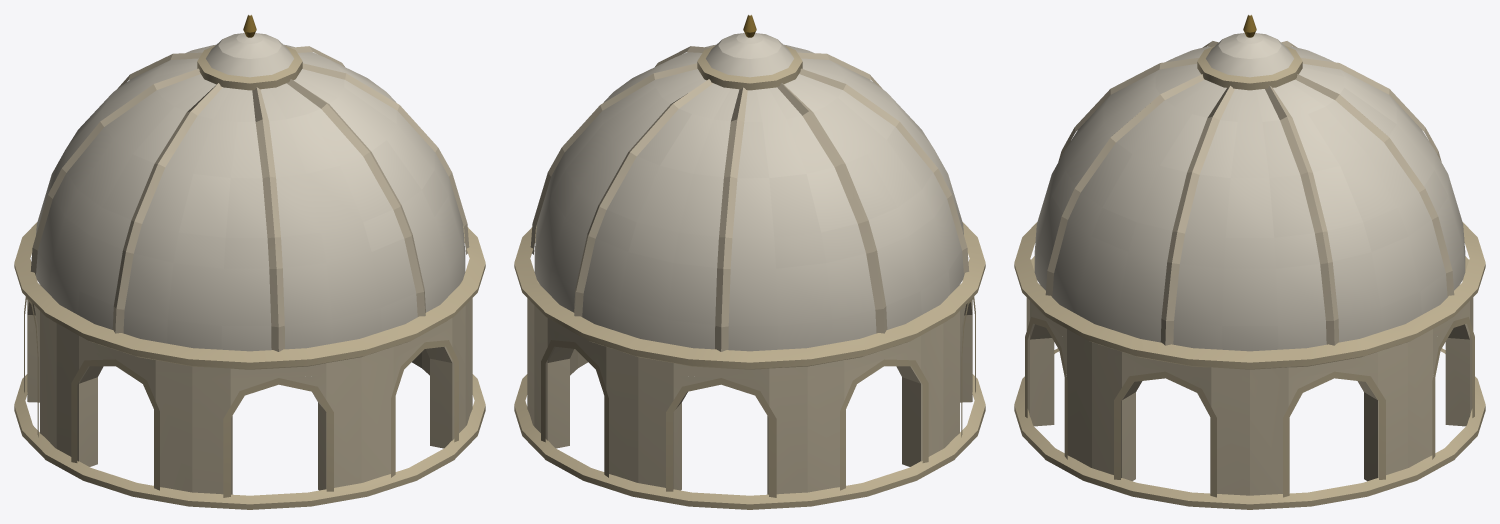
Rendered from dome.whole_8.plaster.glb.
The picture shows the model from 3 angles, left to right: view 1: azimuth 30°, elevation 25°; view 2: azimuth 150°, elevation 25°; view 3: azimuth 270°, elevation 25°; orthographic projection.
Parts seen in each view (by area): view 1: dome_whole_8_plaster; view 2: dome_whole_8_plaster; view 3: dome_whole_8_plaster.
Boxes of the visible parts, x1,y1,x2,y2 form: dome_whole_8_plaster: [14, 15, 485, 509]; dome_whole_8_plaster: [514, 15, 985, 509]; dome_whole_8_plaster: [1014, 15, 1485, 509].
Size of what is drawn, in the model's own units: 7.6 by 7.03 by 7.6.
